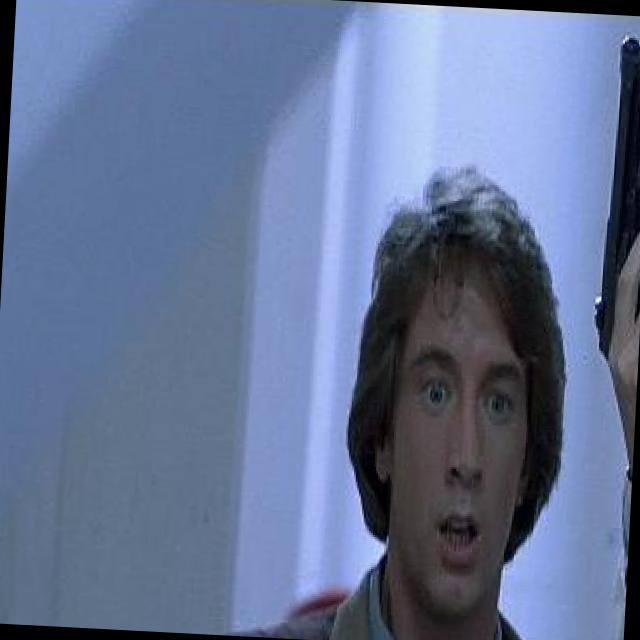Guns: (557, 13, 640, 452)
